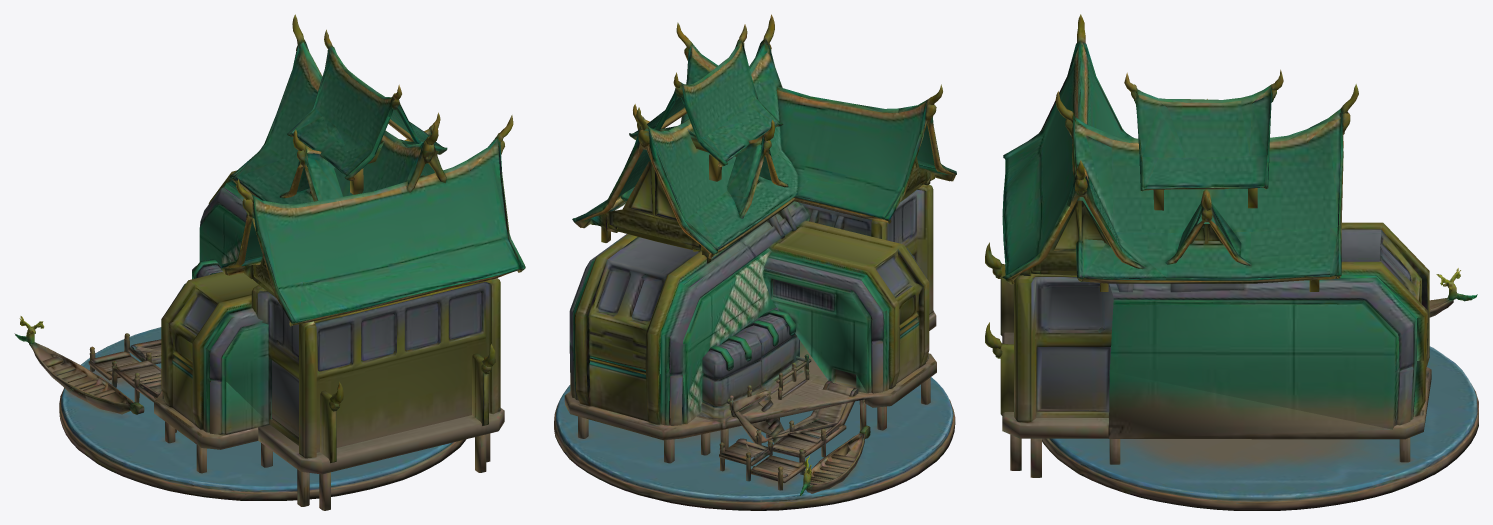
Rendered from corsair_barracks.glb.
3 views of the same model, side by side, from view 1: azimuth 30°, elevation 25°; view 2: azimuth 150°, elevation 25°; view 3: azimuth 270°, elevation 25° (orthographic). The views are drawn at different scales.
Visible parts, largest first — view 1: Body, Trim; view 2: Body, Trim; view 3: Body, Trim.
Boxes of the visible parts, left/top/right/bottom form: Body: left=17, top=14, right=525, bottom=510; Trim: left=14, top=42, right=525, bottom=430; Body: left=554, top=14, right=956, bottom=510; Trim: left=569, top=43, right=956, bottom=495; Body: left=985, top=14, right=1478, bottom=510; Trim: left=1002, top=42, right=1477, bottom=429.
Bounding box in the file's own units: 9.48 × 9.06 × 10.55.
Materials: 2 (2 with a texture image).
